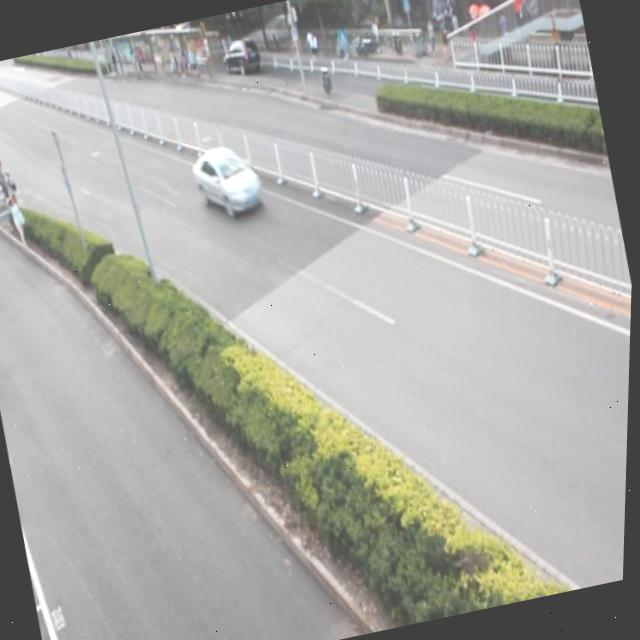car: (188, 138, 268, 223), (219, 36, 264, 78)
